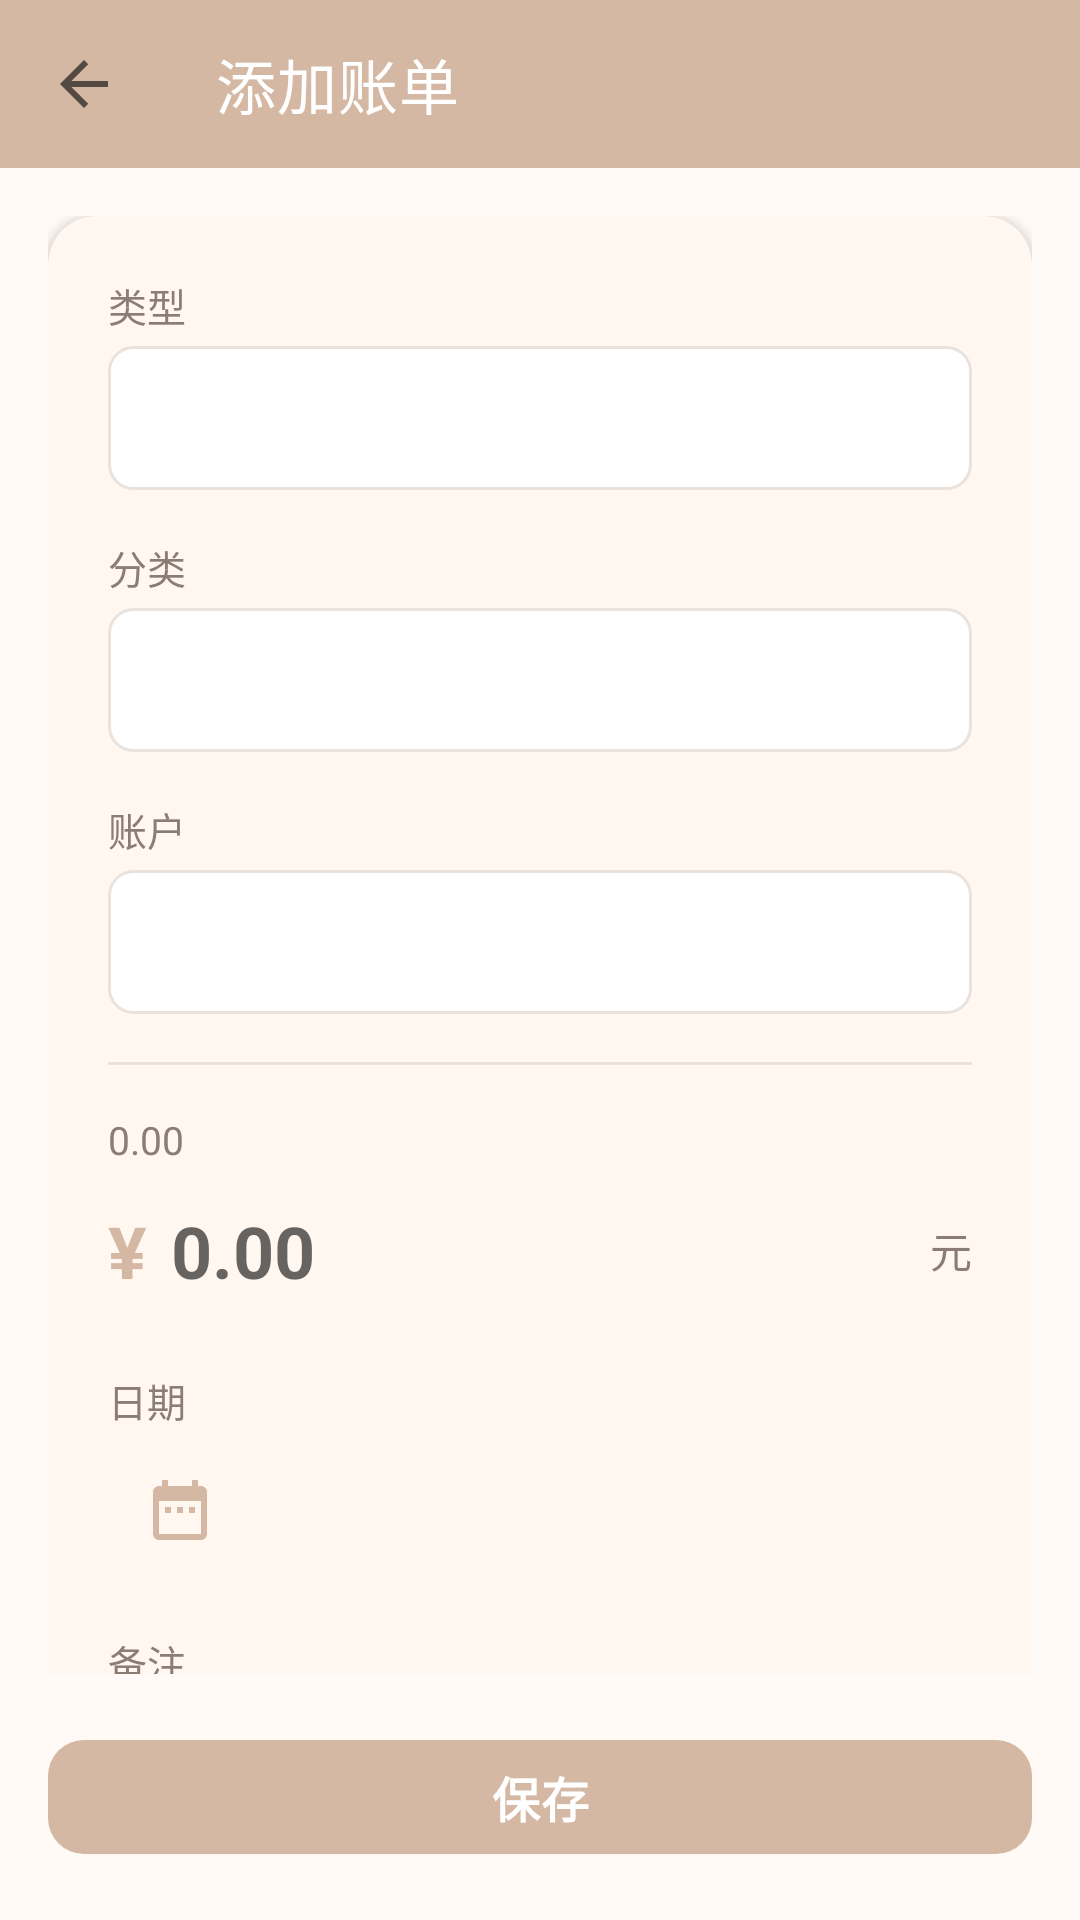

Screen size 1080×1920. Icon name, then its box in pixels as (x1, y1, x2, y2):
calendar: (153, 1480, 207, 1540)
